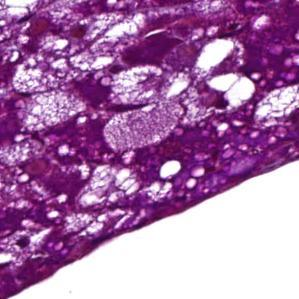ballooning: (65, 11, 140, 74), (106, 60, 191, 111), (188, 71, 259, 120)
